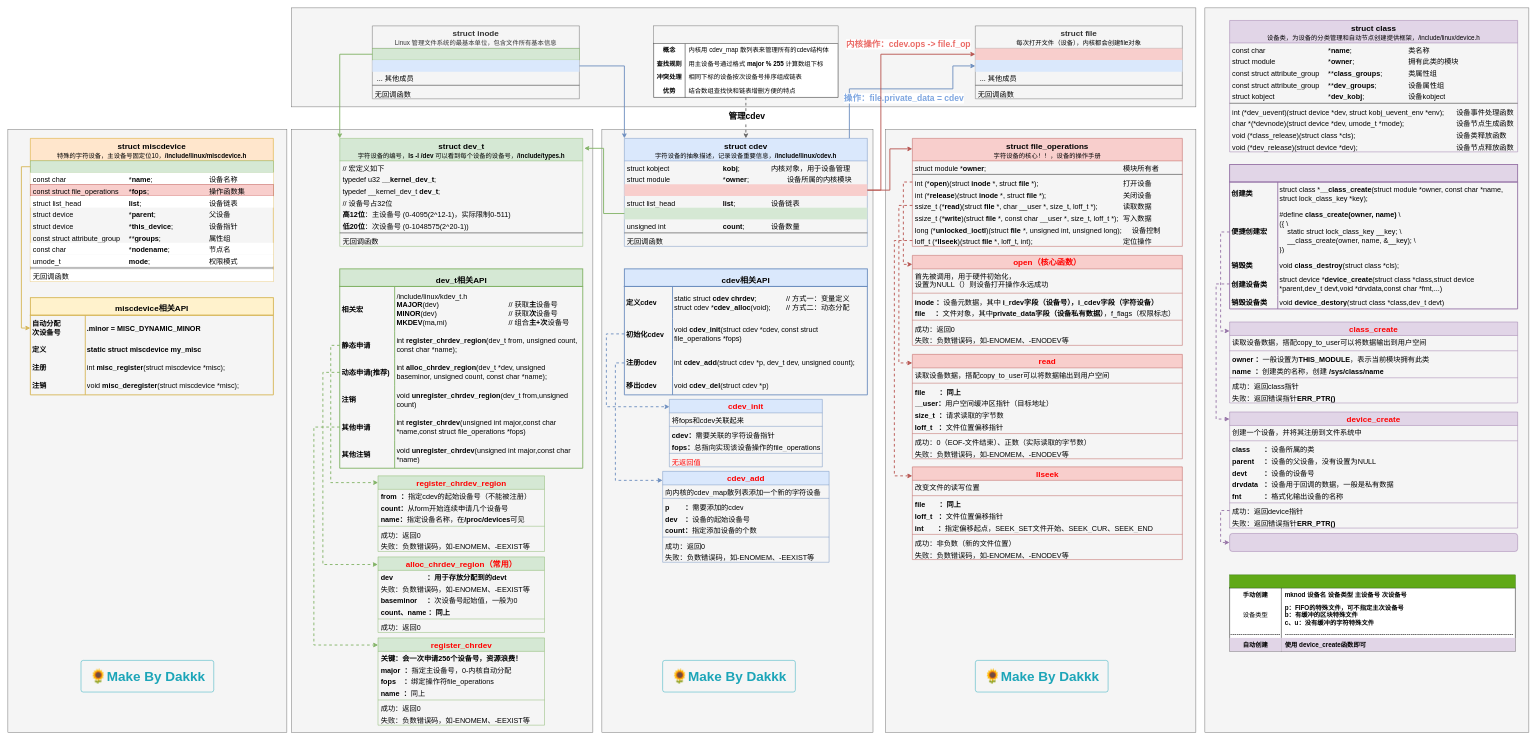
Image size: 1537x740. Some labels were removed from this diagram. Each missing label, with the centre of its shape:
"cdev * i_cdev ； 字符设备指针" goes at (x=475, y=66).
"class相关API" goes at (x=1373, y=173).
"const struct file_operations * f_op ; 操作方法指针" goes at (x=1078, y=54).
"const struct file_operations * ops ; 设备操作方法集" goes at (x=745, y=190).
"dev_t dev ; 设备号" goes at (x=745, y=213).
"dev_t i_rdev ； 设备号" goes at (x=475, y=54).
"int minor ; 次设备号" goes at (x=151, y=166).
"struct kobj_map cdev_map：散列表" goes at (x=745, y=34).
"Tips：这里可以回顾一下struct device结构体" goes at (x=1373, y=542).
"void * private_data ; 私有数据指针" goes at (x=1078, y=66).
"设备节点的创建方式" goes at (x=1372, y=581).
